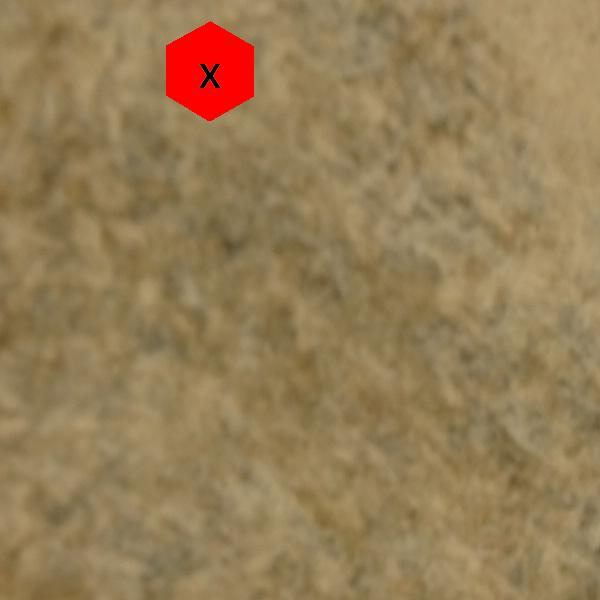Hexagon: (160, 21, 260, 121)
